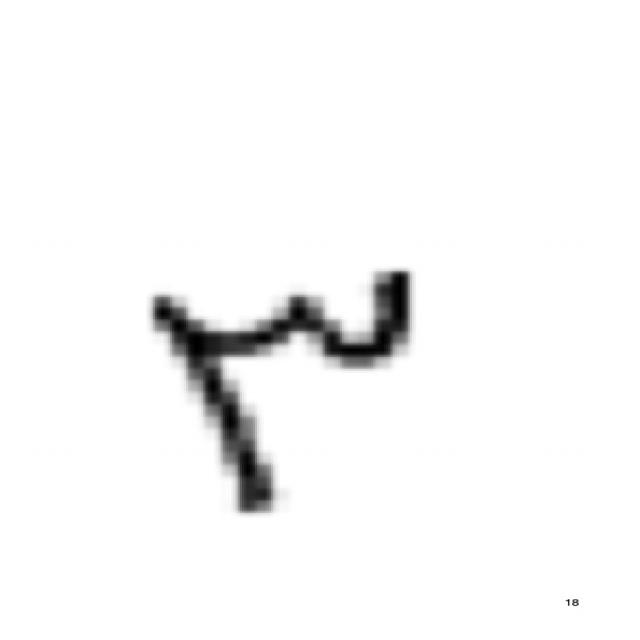3 -three-: (134, 253, 424, 526)
